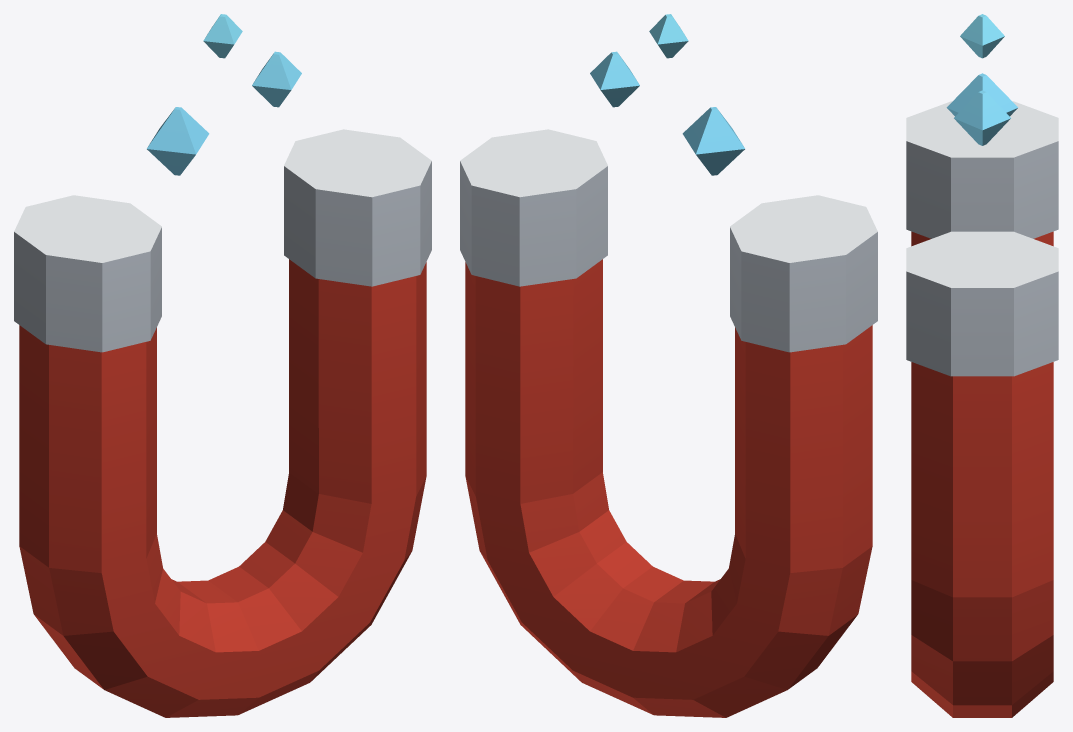
Rendered from Magnet.fbx.
The picture shows the model from 3 angles, left to right: view 1: azimuth 30°, elevation 25°; view 2: azimuth 150°, elevation 25°; view 3: azimuth 270°, elevation 25°; orthographic projection.
Visible parts, largest first — view 1: Horseshoe, Poles, Sparks; view 2: Horseshoe, Poles, Sparks; view 3: Horseshoe, Poles, Sparks.
Boxes of the visible parts, left/top/right/bottom form: Horseshoe: left=19, top=259, right=426, bottom=717; Poles: left=14, top=129, right=431, bottom=352; Sparks: left=147, top=14, right=301, bottom=175; Horseshoe: left=465, top=259, right=872, bottom=717; Poles: left=460, top=129, right=877, bottom=352; Sparks: left=590, top=14, right=744, bottom=175; Horseshoe: left=911, top=231, right=1053, bottom=717; Poles: left=906, top=101, right=1058, bottom=376; Sparks: left=946, top=14, right=1018, bottom=145.
Size of the model in its own units: 0.4293 by 0.7321 by 0.1478.
2 materials, 2 textured.
